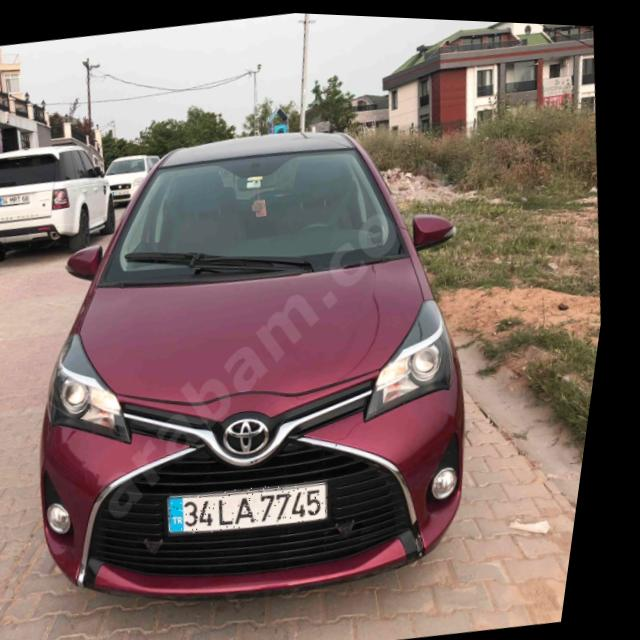license_plate: (177, 470, 346, 540)
